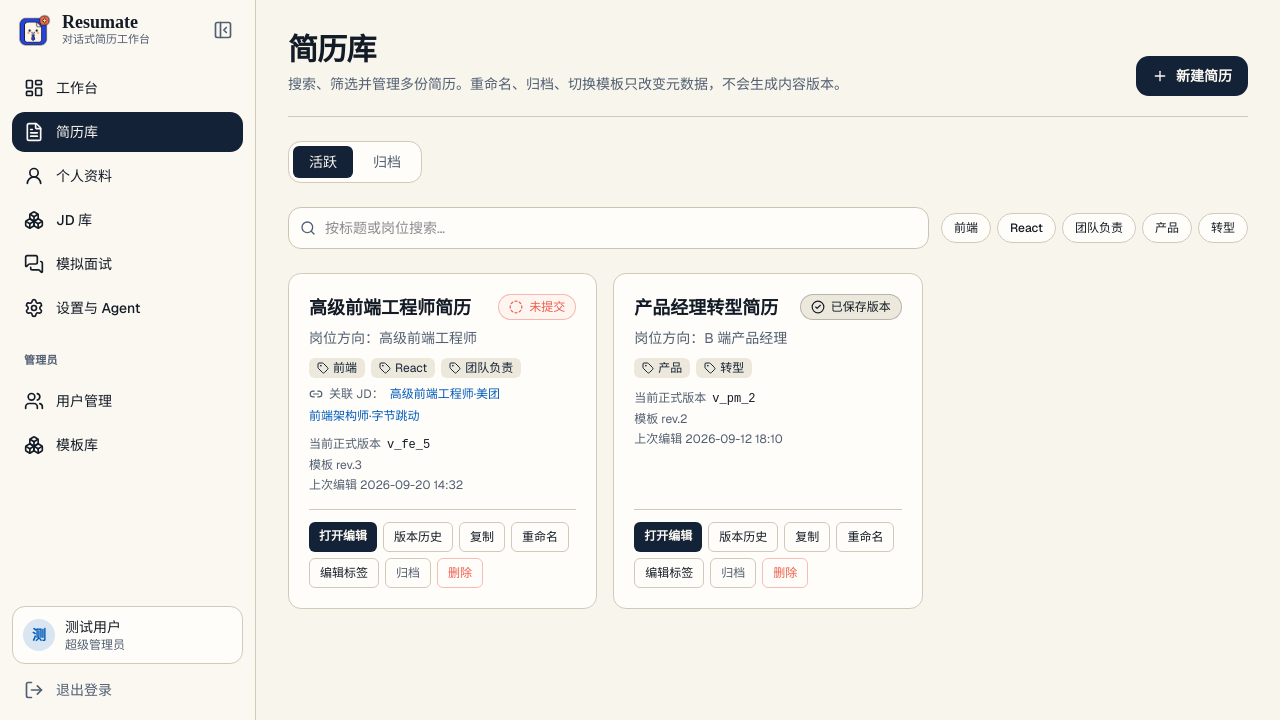
Scenario: 简历库：归档 / 恢复接线 › 归档失败时用归档专用文案显示 role=alert，不透出后端 message
Click the button "归档" below "高级前端工程师简历" at (408, 573), box left=385, top=558, right=431, bottom=588
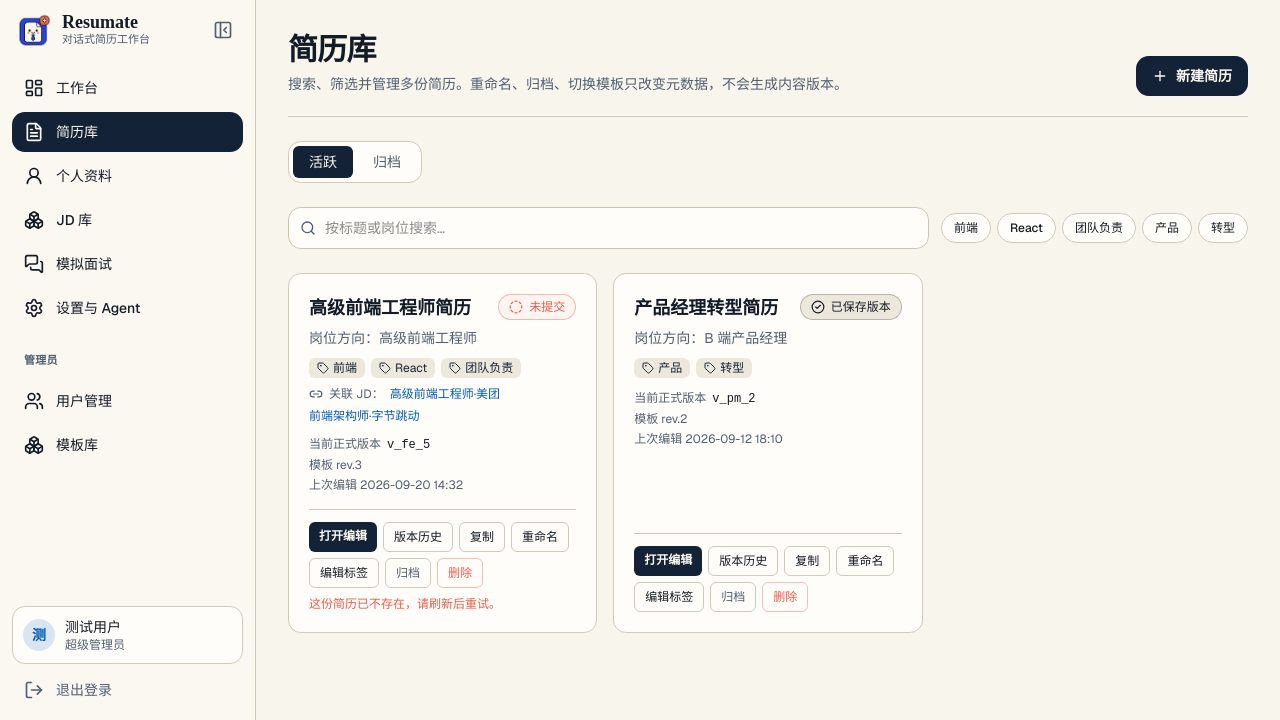
Expected: the link "高级前端工程师简历" is shown, left=309, top=298, right=471, bottom=318
Result: the message reads "这份简历已不存在，请刷新后重试。" at left=309, top=596, right=501, bottom=612
